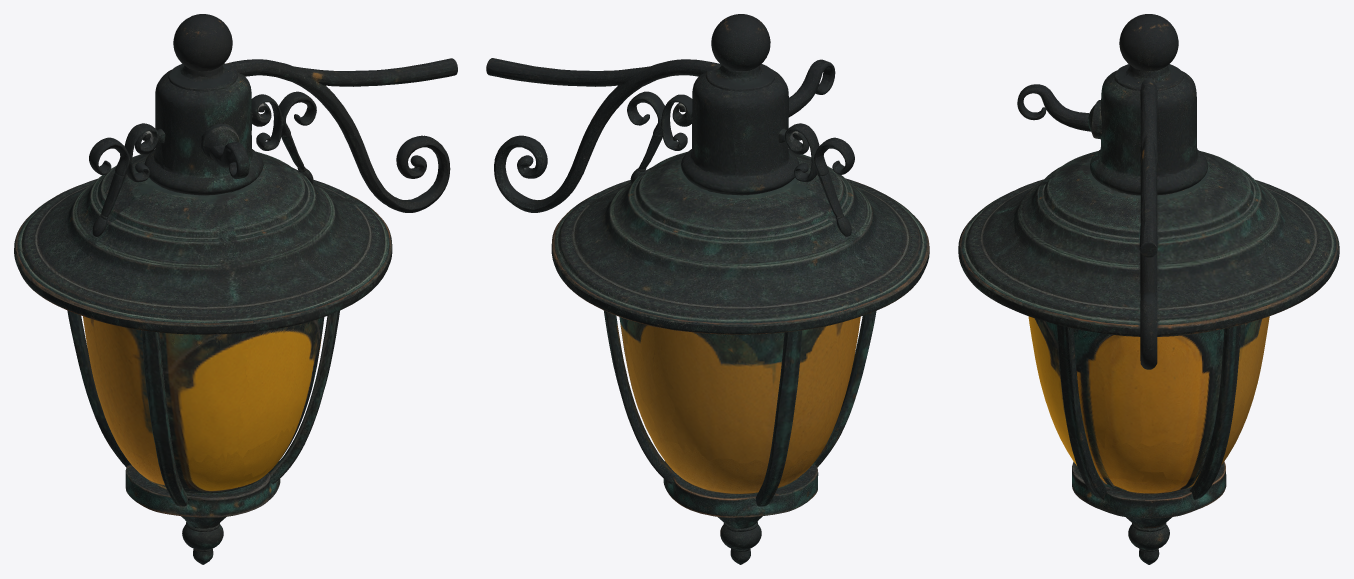
File: wall_bracket_street_lamp.glb
The picture shows the model from 3 angles, left to right: view 1: azimuth 30°, elevation 25°; view 2: azimuth 150°, elevation 25°; view 3: azimuth 270°, elevation 25°; orthographic projection.
Bounding box in the file's own units: 1.51 × 1.9 × 1.2.
Materials: 1 (1 with a texture image).
